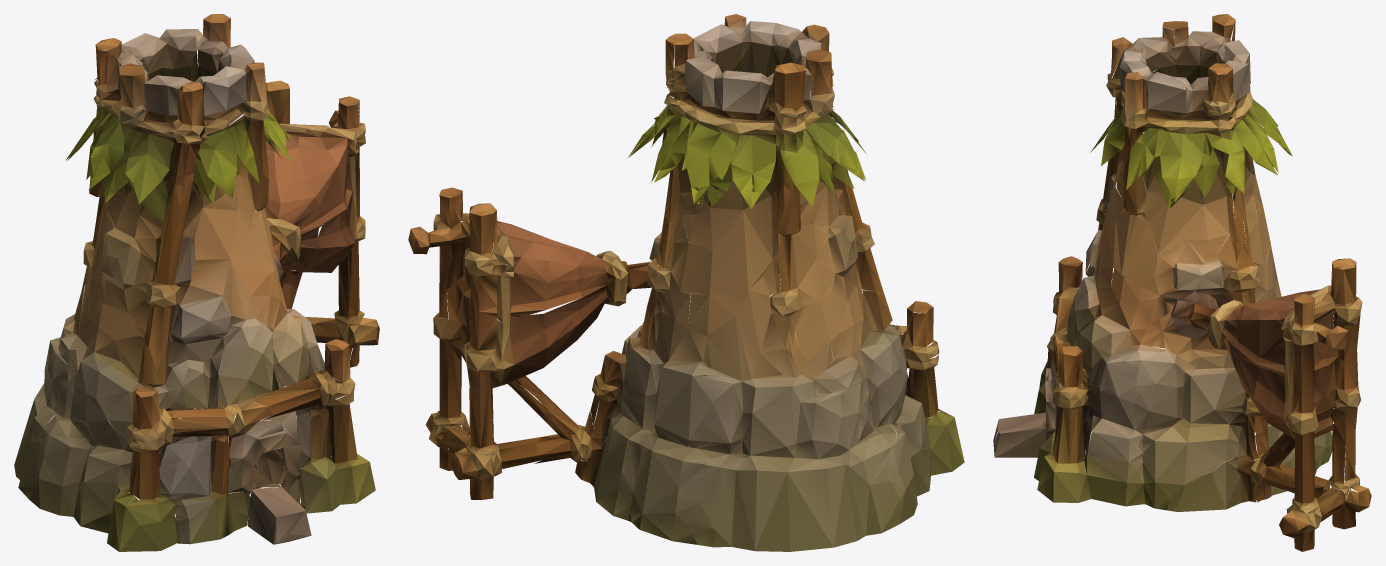
The model's file is building-furnace.glb.
3 renders of one model, left to right at view 1: azimuth 30°, elevation 25°; view 2: azimuth 150°, elevation 25°; view 3: azimuth 270°, elevation 25°, orthographic. The views are drawn at different scales.
Visible parts, largest first — view 1: 0_furnace; view 2: 0_furnace; view 3: 0_furnace.
Part boxes in pixels (x1=…): 0_furnace: x1=14, y1=14, x2=379, y2=551; 0_furnace: x1=408, y1=14, x2=964, y2=551; 0_furnace: x1=993, y1=14, x2=1371, y2=551.
Bounding box in the file's own units: 1.92 × 1.94 × 1.65.
